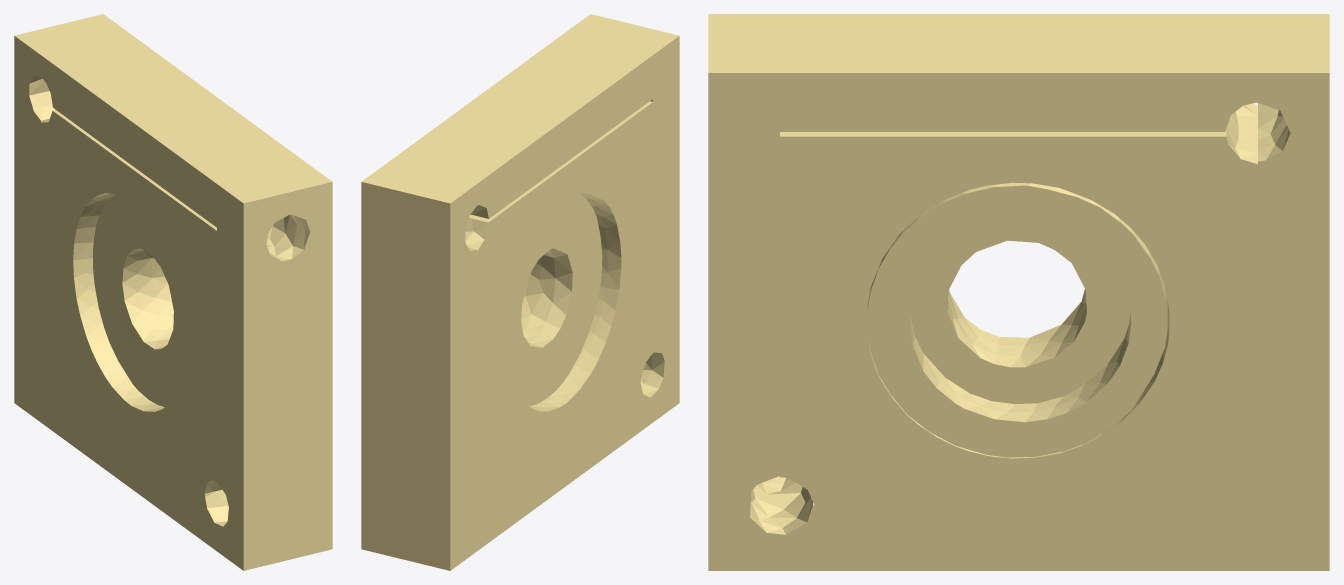
Rendered from input.gltf.
3 renders of one model, left to right at view 1: azimuth 30°, elevation 25°; view 2: azimuth 150°, elevation 25°; view 3: azimuth 270°, elevation 25°, orthographic. The views are drawn at different scales.
Visible parts, largest first — view 1: Renderer Node; view 2: Renderer Node; view 3: Renderer Node.
Boxes of the visible parts, x1,y1,x2,y2 form: Renderer Node: (14, 14, 332, 570); Renderer Node: (361, 14, 679, 570); Renderer Node: (708, 14, 1329, 570).
Bounding box in the file's own units: 0.3359 × 1.33 × 1.5.
